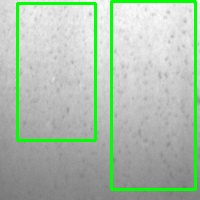pitted_surface: (111, 1, 195, 189), (17, 3, 95, 140)
